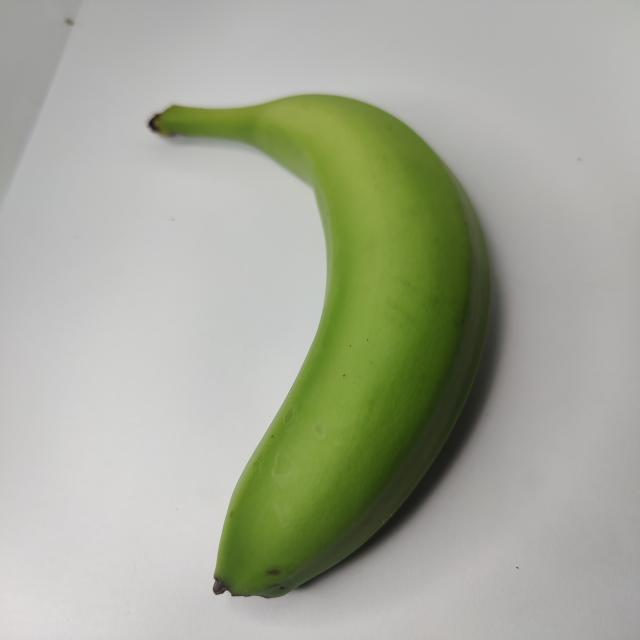raw: (104, 72, 510, 596)
